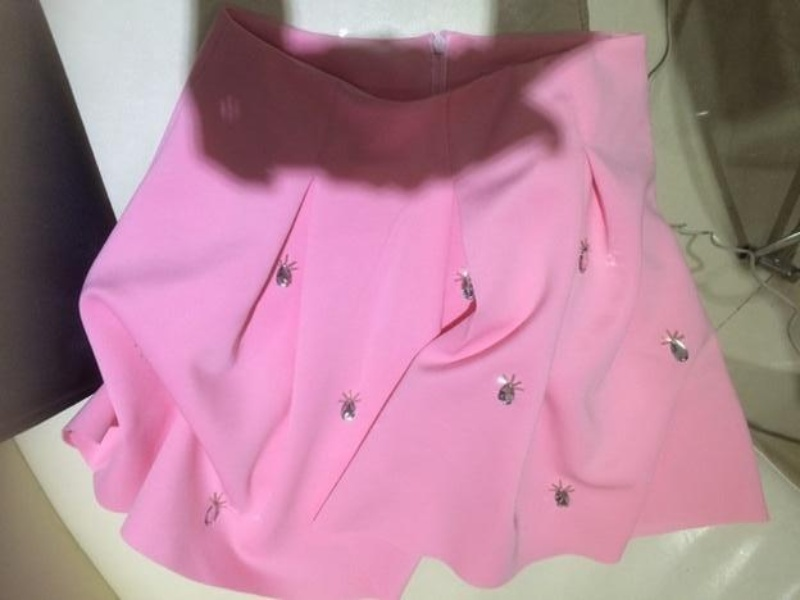skirt: (62, 9, 771, 599)
